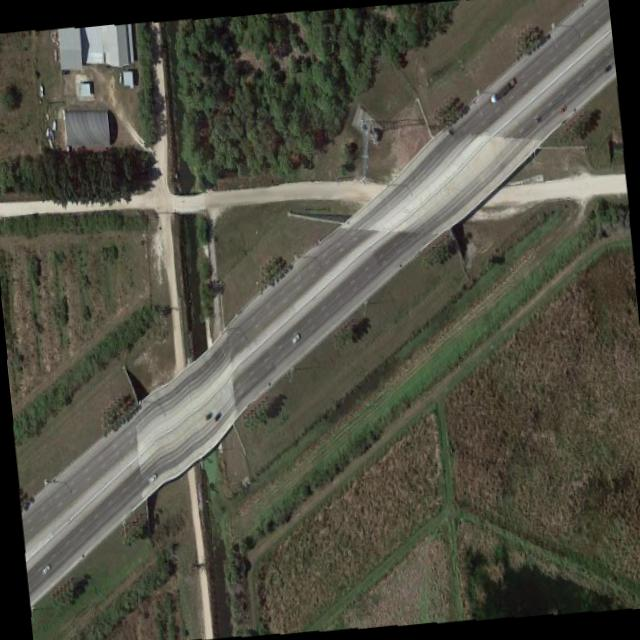ship: (36, 84, 42, 99), (47, 131, 53, 144), (50, 120, 55, 135)
small-vehicle: (531, 115, 542, 128), (146, 473, 156, 487), (40, 563, 49, 577), (289, 332, 298, 346), (212, 411, 221, 424), (602, 64, 612, 75), (202, 412, 212, 423), (559, 105, 564, 114)
